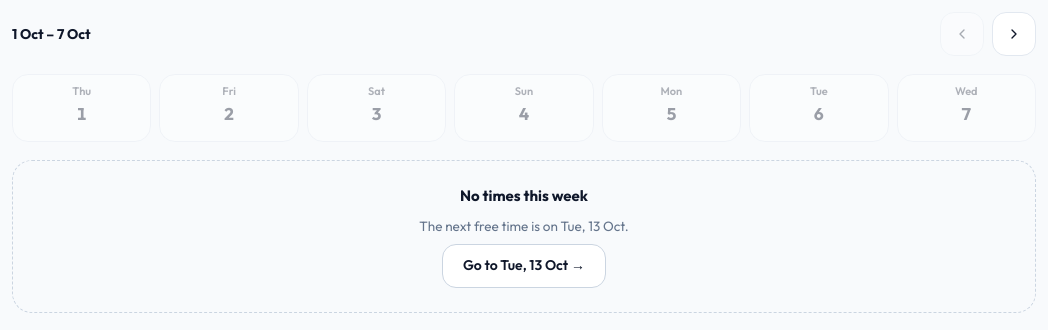
Test: TimeStep › points to the next free day when this week has none
Expected: the text "No times this week" is shown, [460,185,588,208]
Click the button "Go to Tue, 13 Oct →". click: [524, 266]
box: [442,244,606,288]
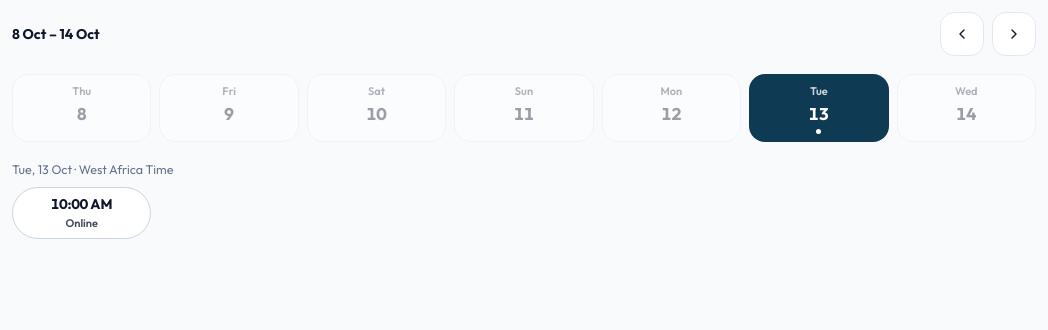
Now the text "8 Oct – 14 Oct" is shown, box [12,24,100,44]
Now the button "10:00 AM Online" is shown, box [12,187,151,239]
